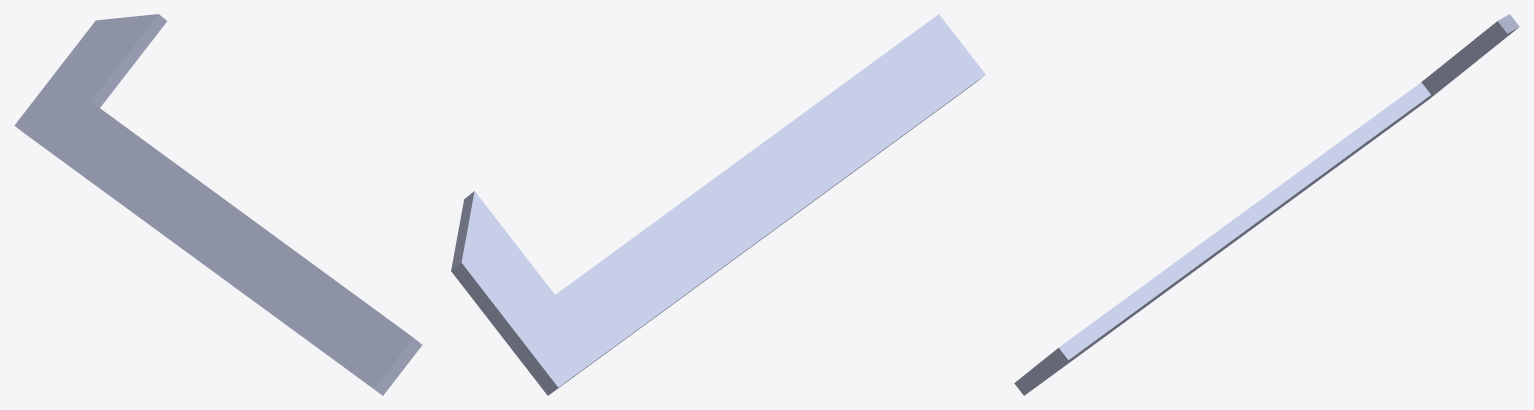
The model's file is body72_visual.obj.
The picture shows the model from 3 angles, left to right: view 1: azimuth 30°, elevation 25°; view 2: azimuth 150°, elevation 25°; view 3: azimuth 330°, elevation 25°; orthographic projection. The views are drawn at different scales.
Visible parts, largest first — view 1: Body72; view 2: Body72; view 3: Body72.
Boxes of the visible parts, x1,y1,x2,y2 form: Body72: [14, 14, 422, 395]; Body72: [451, 14, 985, 395]; Body72: [1014, 14, 1519, 395].
Size of the model in its own units: 0.00932 by 0.00932 by 0.05.
